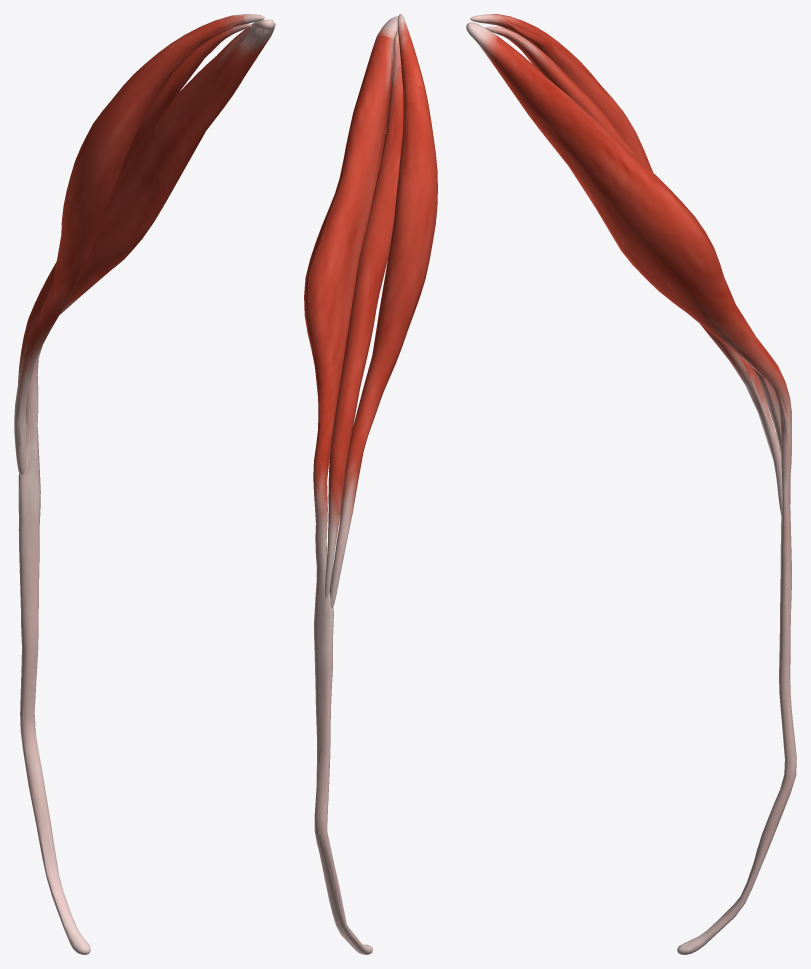
File: L flexor digitorum profundus.fbx
The picture shows the model from 3 angles, left to right: view 1: azimuth 30°, elevation 25°; view 2: azimuth 150°, elevation 25°; view 3: azimuth 270°, elevation 25°; orthographic projection. The views are drawn at different scales.
Visible parts, largest first — view 1: L flexor digitorum profundus, L flexor digitorum profundus low; view 2: L flexor digitorum profundus, L flexor digitorum profundus low; view 3: L flexor digitorum profundus, L flexor digitorum profundus low.
Part boxes in pixels (x1,y1,x2,y2): L flexor digitorum profundus: (14,14,275,954); L flexor digitorum profundus low: (17,17,272,945); L flexor digitorum profundus: (304,14,437,954); L flexor digitorum profundus low: (304,19,437,951); L flexor digitorum profundus: (466,14,796,954); L flexor digitorum profundus low: (466,21,796,953).
Bounding box in the file's own units: 11.91 × 88.92 × 27.48.
